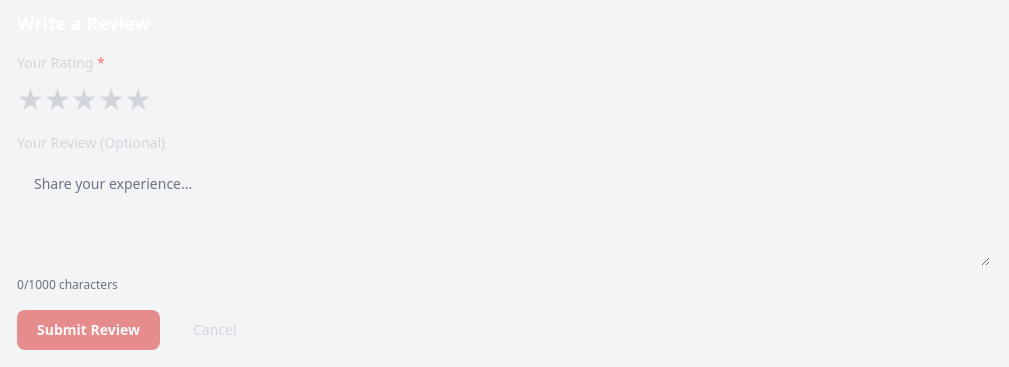
ReviewForm Component › Comment Field › updates character count as user types
This screenshot has width=1009, height=367.
Type "Great movie!" into the text box with placeholder "Share your experience..." at (504, 214), box [17, 161, 991, 267]
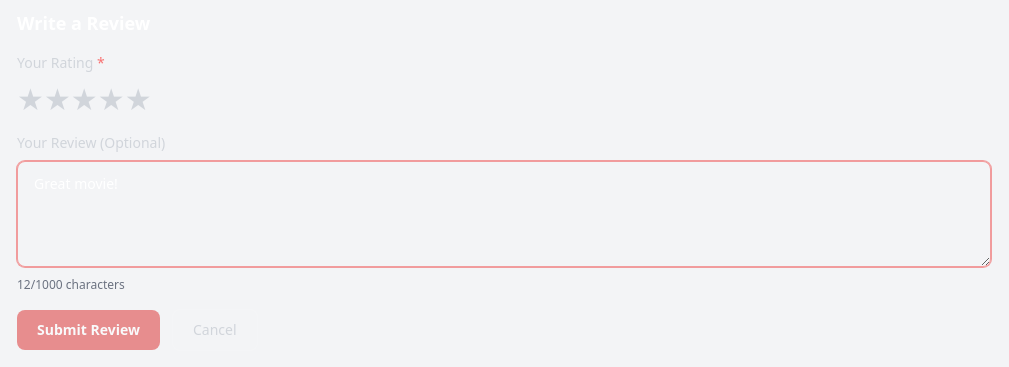
Expected: the text "12/1000 characters" is shown, [17, 276, 125, 293]
